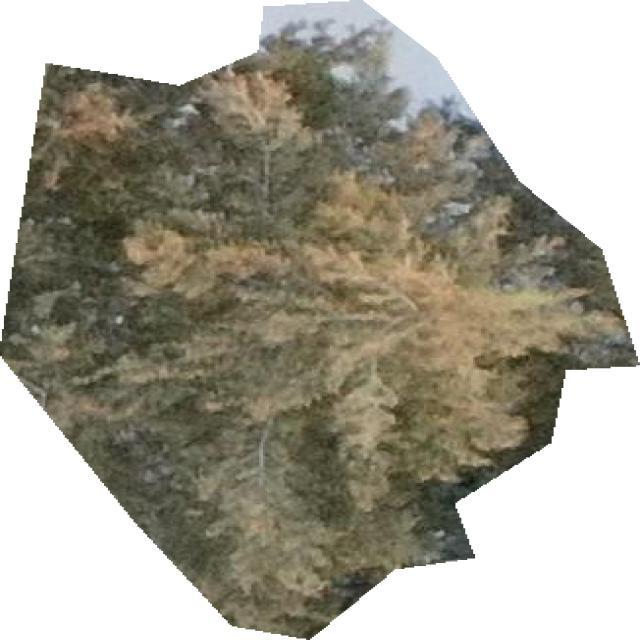spruce: (0, 21, 636, 638)
